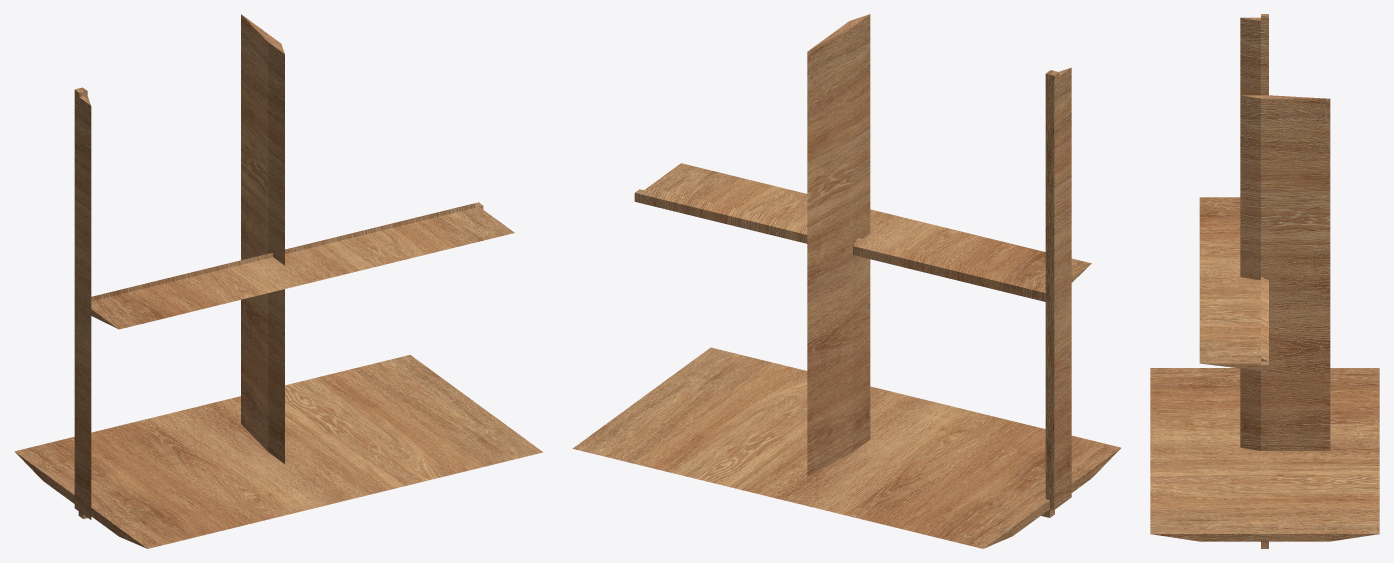
The model's file is 47154_deepcad-end2end.glb.
3 renders of one model, left to right at view 1: azimuth 30°, elevation 25°; view 2: azimuth 150°, elevation 25°; view 3: azimuth 270°, elevation 25°, orthographic. The views are drawn at different scales.
Parts seen in each view (by area): view 1: test_cmd_47154_pred; view 2: test_cmd_47154_pred; view 3: test_cmd_47154_pred.
Boxes of the visible parts, x1,y1,x2,y2 form: test_cmd_47154_pred: (14,14,543,548); test_cmd_47154_pred: (572,14,1120,548); test_cmd_47154_pred: (1150,14,1379,548).
Bounding box in the file's own units: 0.9899 × 1 × 0.5657.
1 material, 1 textured.
